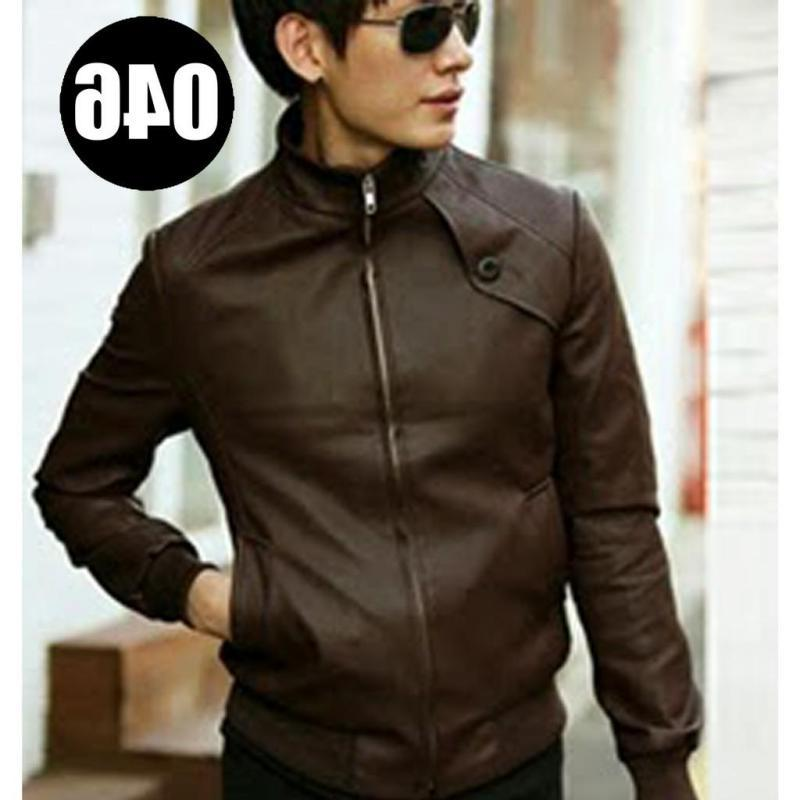jacket: (30, 95, 701, 800)
